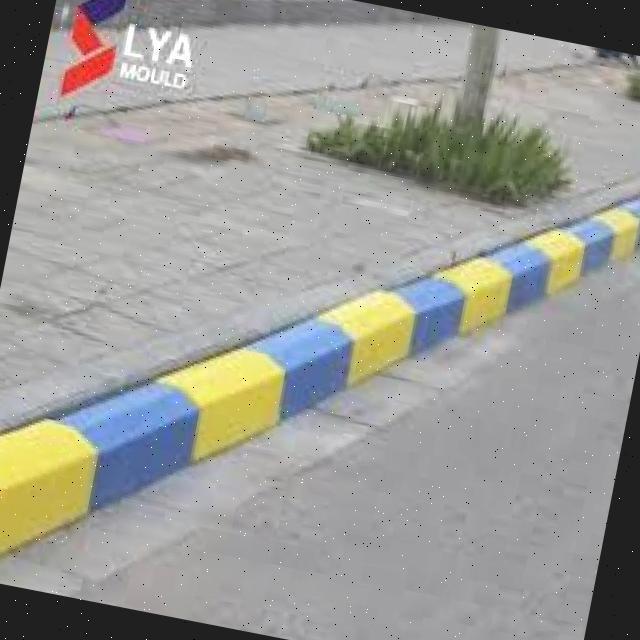curb: (1, 315, 262, 626), (239, 240, 449, 448), (533, 163, 640, 279), (425, 252, 525, 348), (499, 236, 635, 305)
